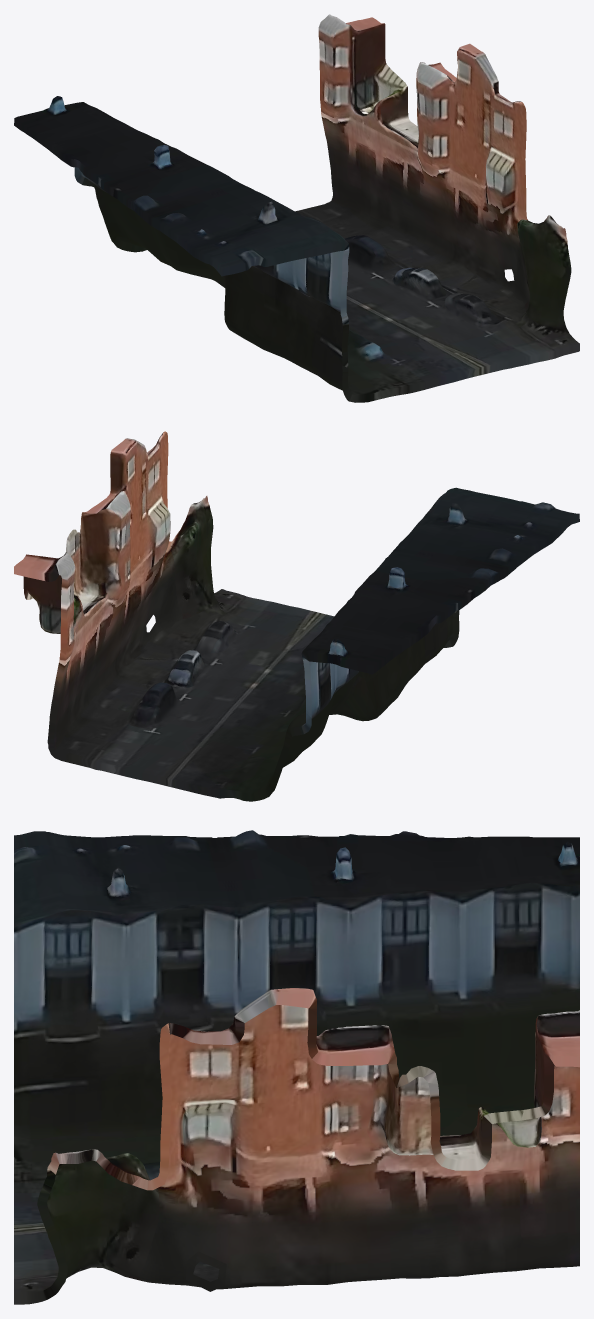
File: z20-167779-405214-h0-yup-uvflip-v3-world.glb
The picture shows the model from 3 angles, top to bottom: view 1: azimuth 30°, elevation 25°; view 2: azimuth 150°, elevation 25°; view 3: azimuth 270°, elevation 25°; orthographic projection. The views are drawn at different scales.
Size of the model in its own units: 30.2 by 18.48 by 30.32.
1 material, 1 textured.
